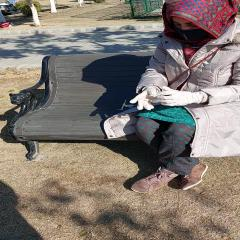gloved: (131, 86, 165, 110), (155, 90, 199, 105)
